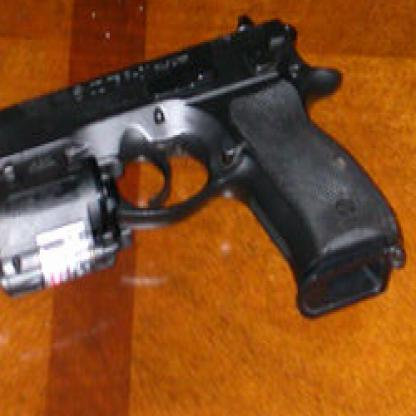gun: (0, 11, 410, 319)
